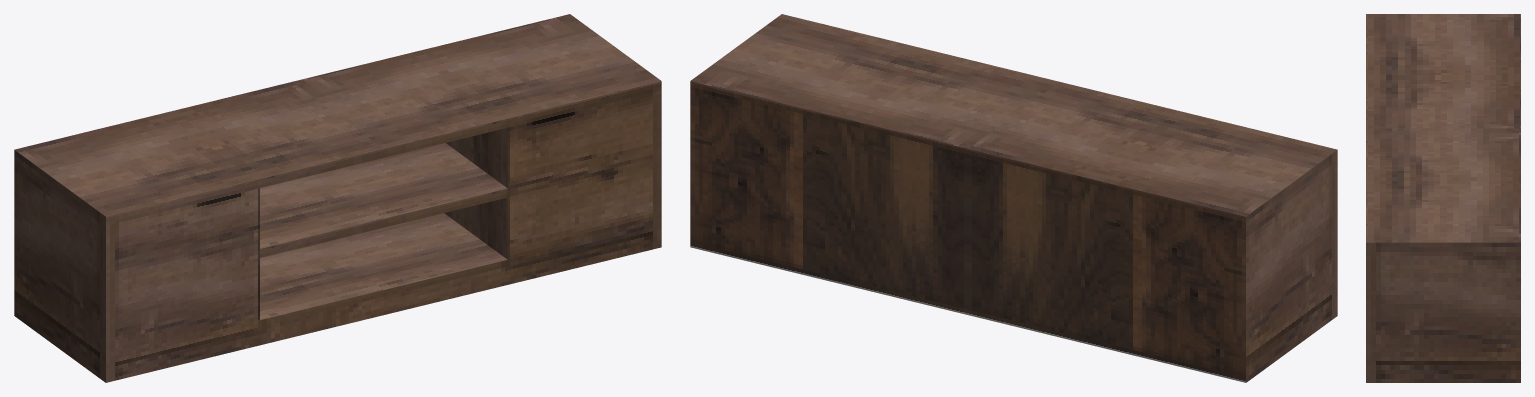
File: tv_stand.glb
3 renders of one model, left to right at view 1: azimuth 30°, elevation 25°; view 2: azimuth 150°, elevation 25°; view 3: azimuth 270°, elevation 25°, orthographic. The views are drawn at different scales.
Parts seen in each view (by area): view 1: TVStand; view 2: TVStand; view 3: TVStand.
Part boxes in pixels (x1=…): TVStand: x1=14, y1=14, x2=661, y2=382; TVStand: x1=690, y1=14, x2=1337, y2=382; TVStand: x1=1366, y1=14, x2=1520, y2=382.
Bounding box in the file's own units: 1.93 × 0.55 × 0.55.
1 material, 1 textured.
